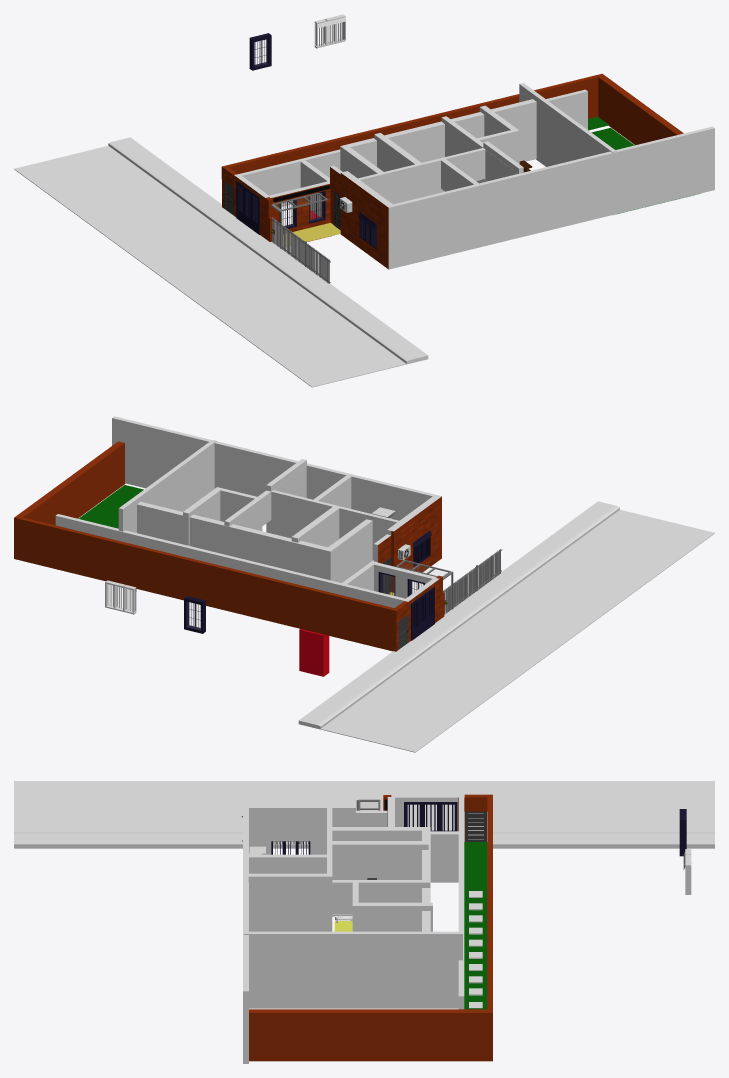
File: PRIMERA CASA (1) (2).fbx
3 renders of one model, top to bottom at view 1: azimuth 30°, elevation 25°; view 2: azimuth 150°, elevation 25°; view 3: azimuth 270°, elevation 25°, orthographic. The views are drawn at different scales.
Parts seen in each view (by area): view 1: Cube.030, Cube.029, Cube.001, Cube.027, Cube.033, Cube.023, Cube.022, Cube.035, ventana.002; view 2: Cube.029, Cube.030, Cube.001, Cube.033, Cube.027, Cube.023, Cube.022, Cube.021, Plane, Cube.035, ventana.002; view 3: Cube.029, Cube.030, Cube.027, Cube.001, Plane.002, Cube.022, Cube.023, Cube.033, Cylinder.002.
Part boxes in pixels (x1,y1,x2,y2): Cube.030: [330, 99, 714, 269]; Cube.029: [14, 137, 428, 387]; Cube.001: [221, 73, 683, 208]; Cube.027: [519, 83, 616, 215]; Cube.033: [240, 89, 587, 207]; Cube.023: [269, 160, 334, 233]; Cube.022: [234, 174, 270, 238]; Cube.035: [314, 14, 346, 48]; ventana.002: [249, 33, 271, 70]; Cube.029: [298, 501, 714, 752]; Cube.030: [112, 416, 441, 592]; Cube.001: [14, 441, 408, 651]; Cube.033: [55, 514, 405, 634]; Cube.027: [118, 440, 216, 532]; Cube.023: [342, 560, 436, 598]; Cube.022: [403, 577, 439, 642]; Cube.021: [299, 629, 329, 676]; Plane: [78, 485, 143, 528]; Cube.035: [105, 580, 136, 614]; ventana.002: [184, 596, 205, 633]; Cube.029: [14, 781, 714, 848]; Cube.030: [243, 804, 432, 1063]; Cube.027: [244, 931, 462, 1008]; Cube.001: [249, 794, 492, 1061]; Plane.002: [464, 842, 487, 1009]; Cube.022: [391, 794, 464, 841]; Cube.023: [387, 797, 458, 882]; Cube.033: [458, 797, 464, 1009]; Cylinder.002: [465, 811, 486, 841].
Bounding box in the file's own units: 23554 × 5794 × 24310.
